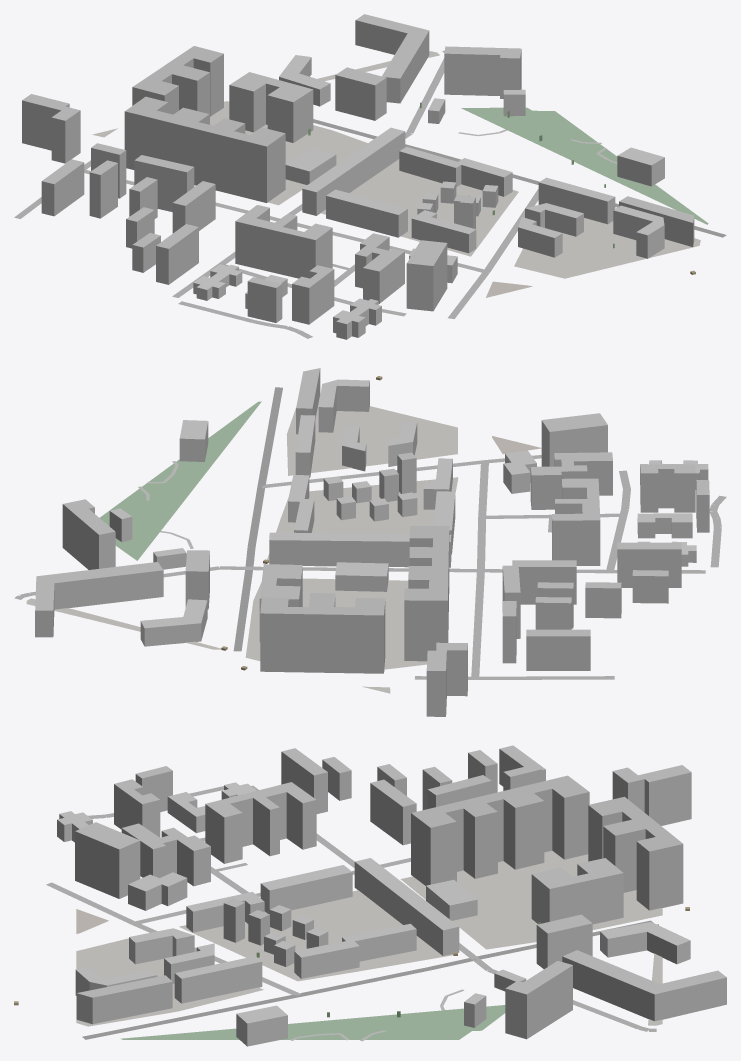
The picture shows the model from 3 angles, top to bottom: view 1: azimuth 30°, elevation 25°; view 2: azimuth 150°, elevation 25°; view 3: azimuth 270°, elevation 25°; orthographic projection. The views are drawn at different scales.
Bounding box in the file's own units: 567 × 59.46 × 608.
